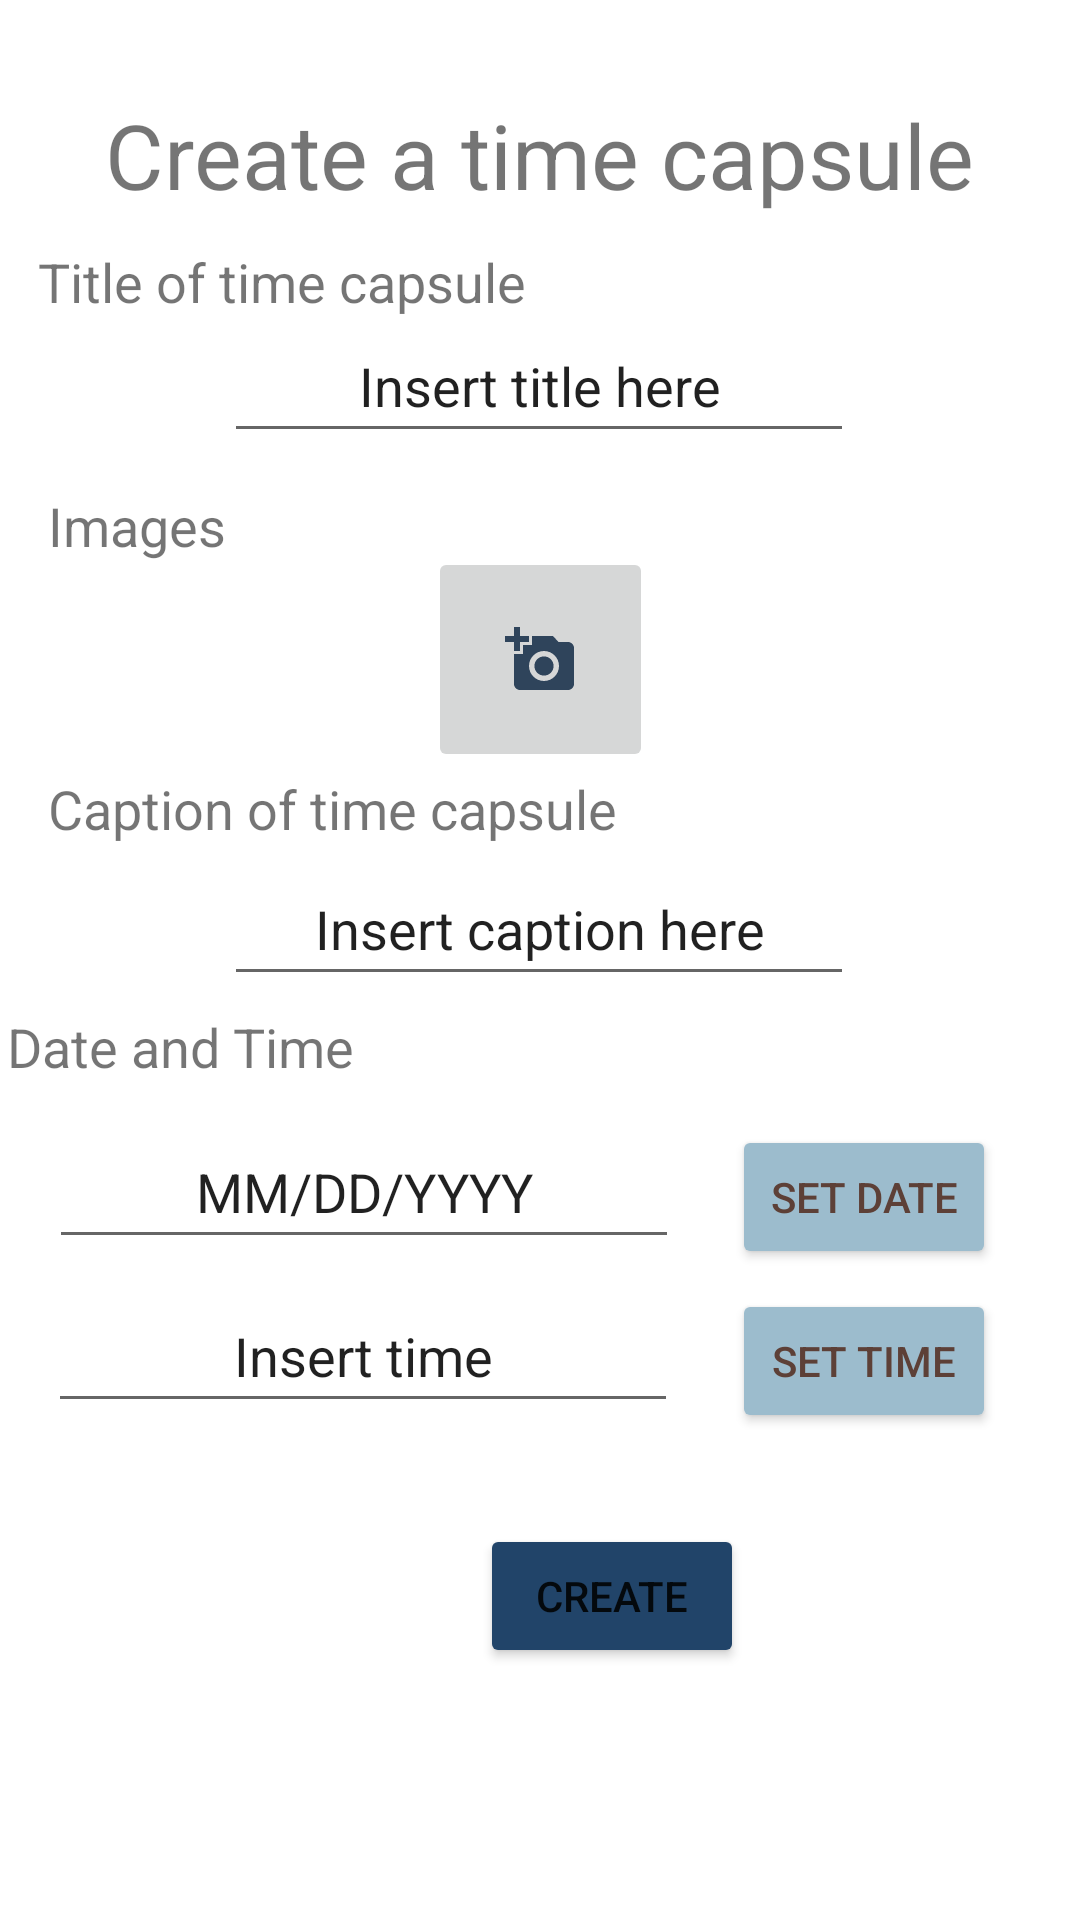

Icon bounding boxes for this 1080×1920 phone screenshot, format (x1=x1, y1=y1, x2=x2, y2=y2):
user images: (x1=440, y1=565, x2=641, y2=754)
